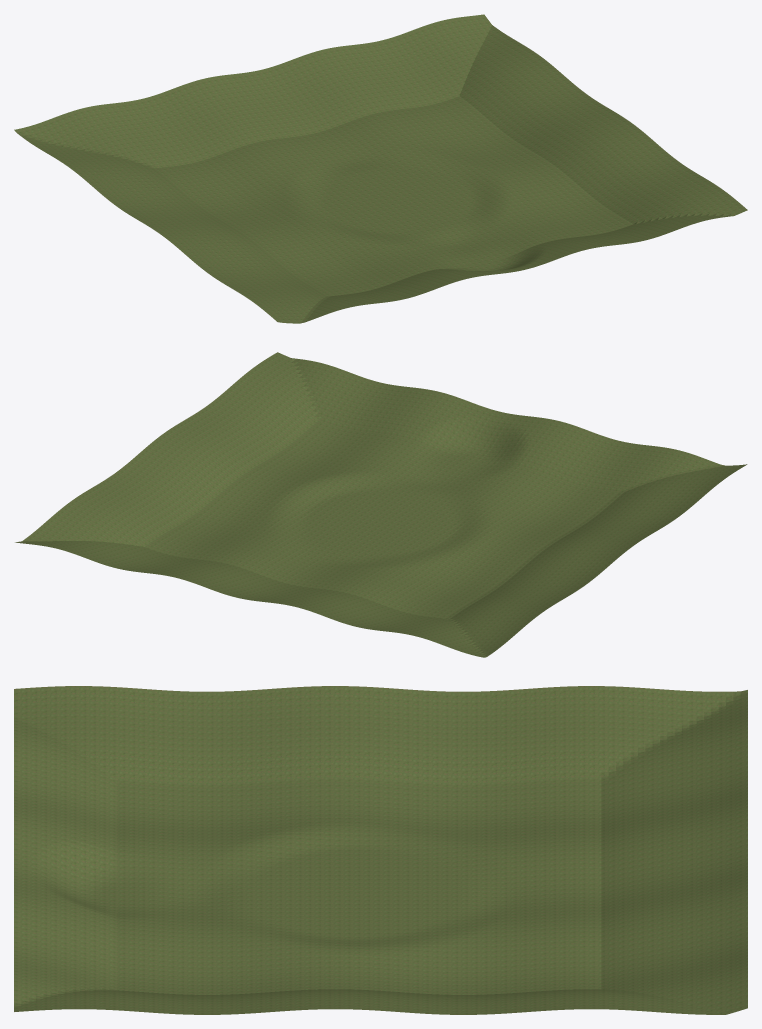
File: campo-abadia.glb
The picture shows the model from 3 angles, top to bottom: view 1: azimuth 30°, elevation 25°; view 2: azimuth 150°, elevation 25°; view 3: azimuth 270°, elevation 25°; orthographic projection. The views are drawn at different scales.
Parts seen in each view (by area): view 1: campo-abadia-0; view 2: campo-abadia-0; view 3: campo-abadia-0.
Part boxes in pixels (x1,y1,x2,y2): campo-abadia-0: [14, 14, 747, 323]; campo-abadia-0: [15, 352, 747, 657]; campo-abadia-0: [14, 686, 747, 1014].
Size of the model in its own units: 309 by 21.5 by 300.
1 material, 1 textured.
